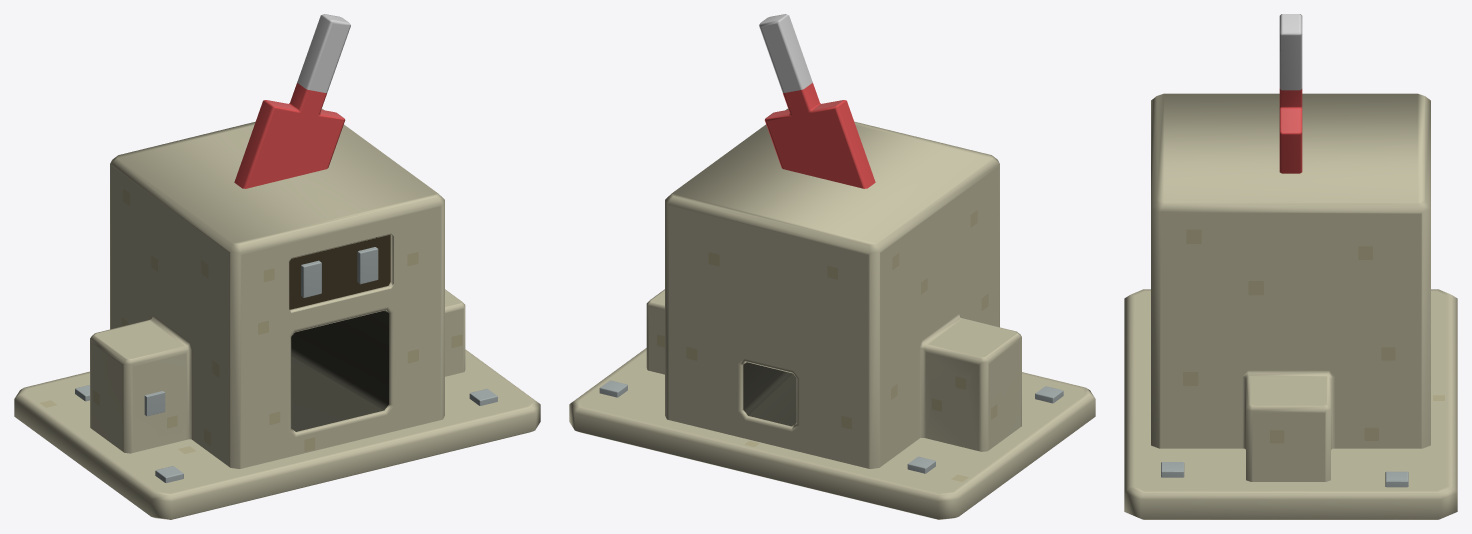
3 renders of one model, left to right at view 1: azimuth 30°, elevation 25°; view 2: azimuth 150°, elevation 25°; view 3: azimuth 270°, elevation 25°, orthographic. The views are drawn at different scales.
Parts seen in each view (by area): view 1: model; view 2: model; view 3: model.
Part boxes in pixels (box(x1,y1,x2,y2)): model: box(14, 14, 540, 519); model: box(569, 14, 1095, 519); model: box(1124, 14, 1457, 519).
Size of the model in its own units: 2.08 by 2.01 by 1.41.
